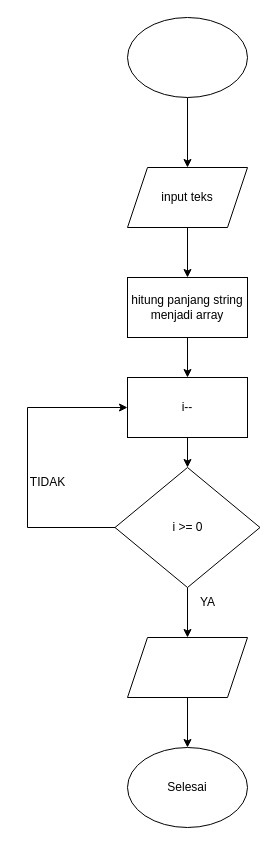
This 277x845 diagram has some shape labels left out. The shapes that lost their labels are listed below. From the top down, each one's box as (x1, y1, x2, y2) in pixels, then its label:
(126, 16, 248, 98): Mulai
(126, 636, 248, 698): cetak hasil
